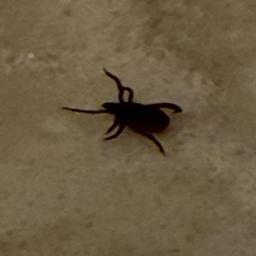Ixodes scapularis: (60, 65, 182, 157)
